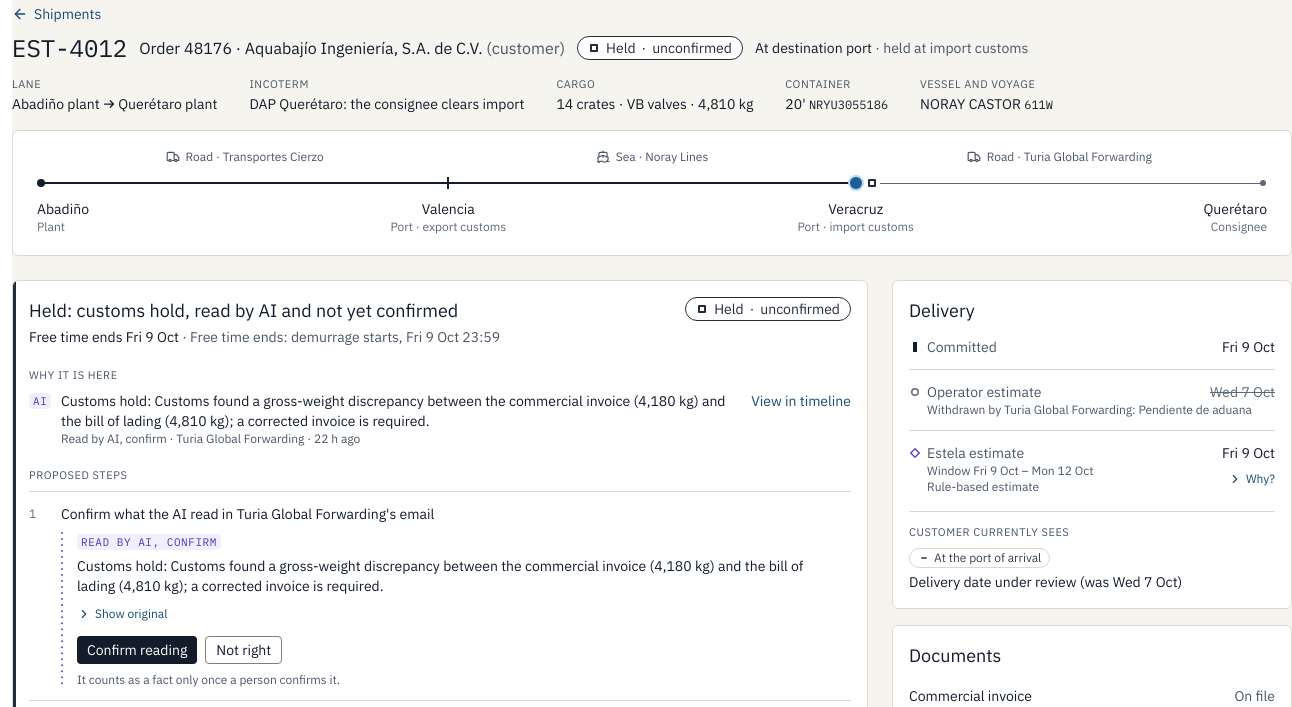
Test: OpsShipmentScreen › turns a reading into a fact when a person confirms it
This screenshot has width=1292, height=707.
Click the button "Confirm reading": click(137, 650) [77,636,197,664]
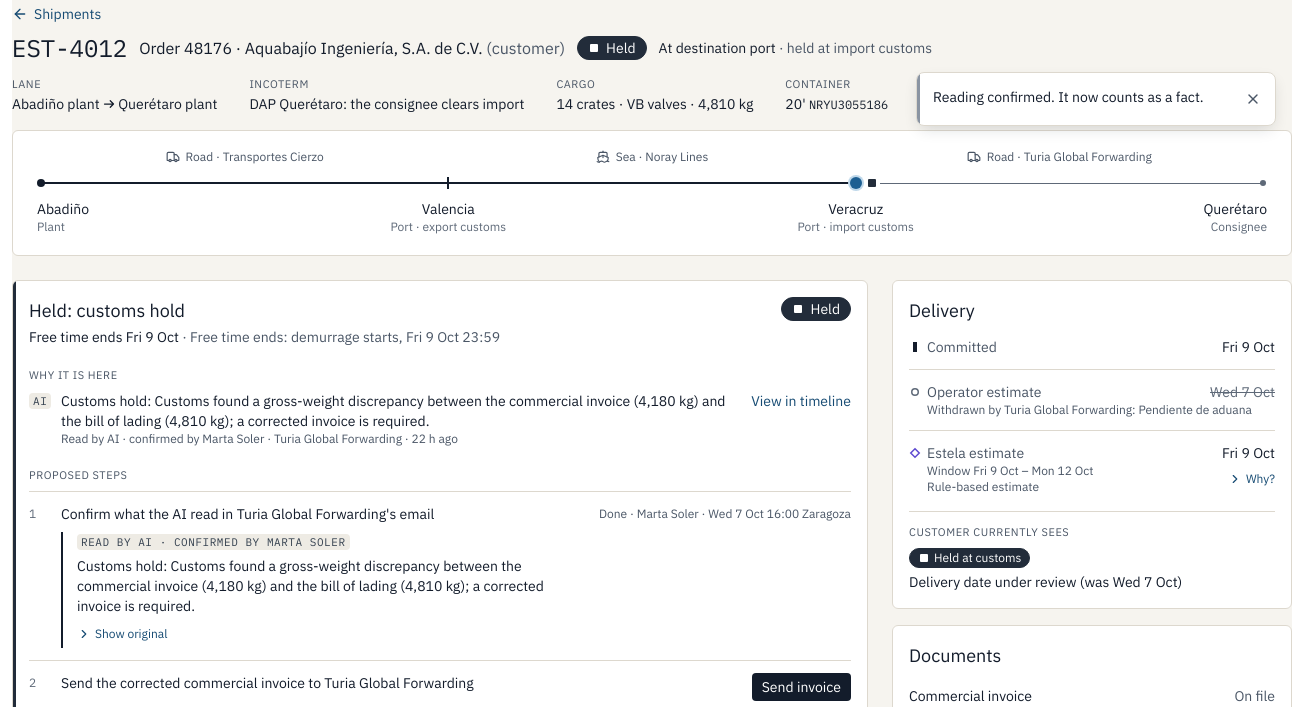
Expected: the text "Read by AI · confirmed by Marta Soler" is shown, [77,534,350,550]
Expected: the text "Done · Marta Soler · Wed 7 Oct 16:00 Zaragoza" is shown, [599,504,851,524]
